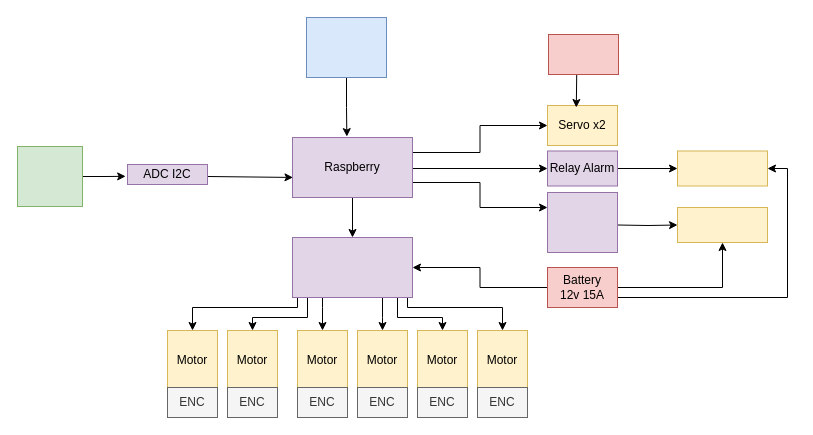
Some shapes in this 813 by 435 pixel diagram are drawn without their labels. Here are the shapes that lost their labels. From the top down, the centre of each, then its label:
At (x=346, y=47): "Keyboard Control to Raspberry PI".
At (x=583, y=54): "Power Bank 5v 10A".
At (x=49, y=176): "Metal Detection".
At (x=722, y=168): "LED & Siren".
At (x=582, y=222): "Relay Electro-magnets".
At (x=722, y=224): "Electromagnet x8".
At (x=352, y=267): "Motors Driver".
